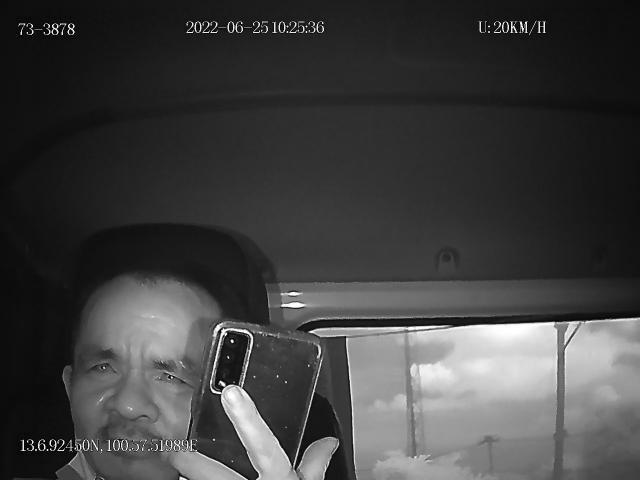PhoneUse: (187, 320, 323, 480)
SafeDriving: (144, 358, 192, 394), (78, 350, 124, 383)
